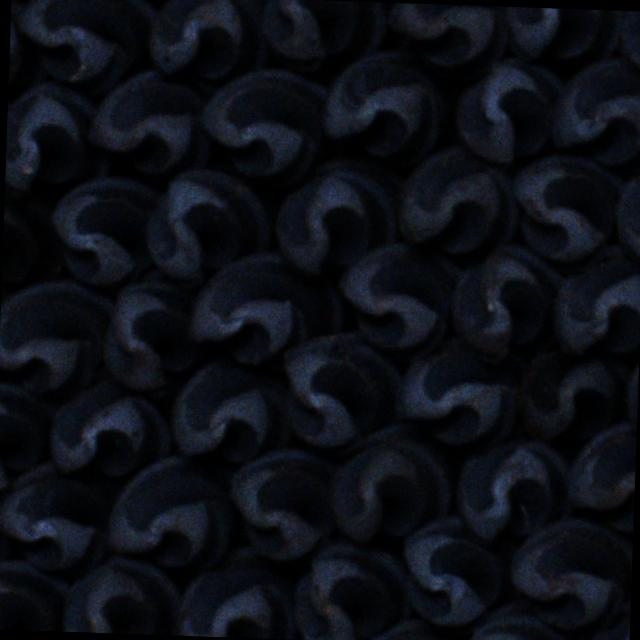tool_b: (188, 246, 346, 366), (198, 68, 331, 188), (274, 158, 404, 278), (326, 424, 455, 544), (109, 452, 238, 570), (280, 328, 406, 448), (145, 166, 272, 284), (506, 515, 632, 631), (396, 333, 526, 445), (319, 46, 444, 162), (449, 242, 567, 364), (336, 240, 462, 354), (392, 145, 518, 256), (86, 66, 212, 176), (12, 0, 158, 90), (222, 446, 336, 561), (0, 279, 110, 397), (166, 359, 292, 462), (507, 154, 622, 266), (48, 379, 174, 481), (0, 462, 115, 573), (100, 270, 204, 392), (46, 174, 158, 286), (400, 515, 510, 629), (456, 438, 576, 542), (290, 538, 412, 640), (451, 55, 564, 164), (5, 82, 113, 192), (176, 544, 301, 638), (514, 350, 630, 444), (549, 54, 640, 166), (62, 556, 185, 636), (553, 243, 640, 355), (147, 0, 271, 77), (384, 2, 508, 76), (260, 0, 388, 70), (566, 418, 637, 532), (0, 178, 62, 297), (500, 6, 620, 64), (0, 379, 55, 492), (462, 598, 577, 640), (0, 560, 68, 631), (7, 0, 45, 99), (614, 146, 640, 267), (351, 617, 461, 640), (569, 599, 630, 640), (614, 10, 640, 75)
